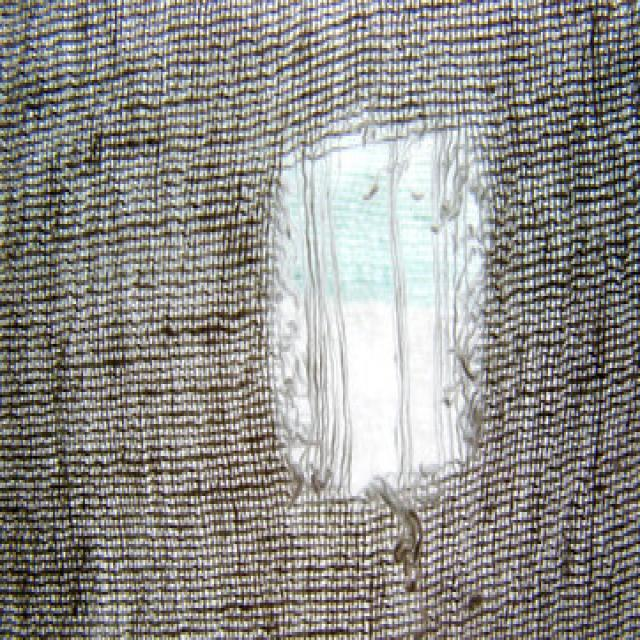Hole: (268, 116, 488, 496)
